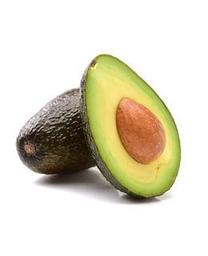avocado: (81, 55, 181, 201), (16, 86, 132, 175)
